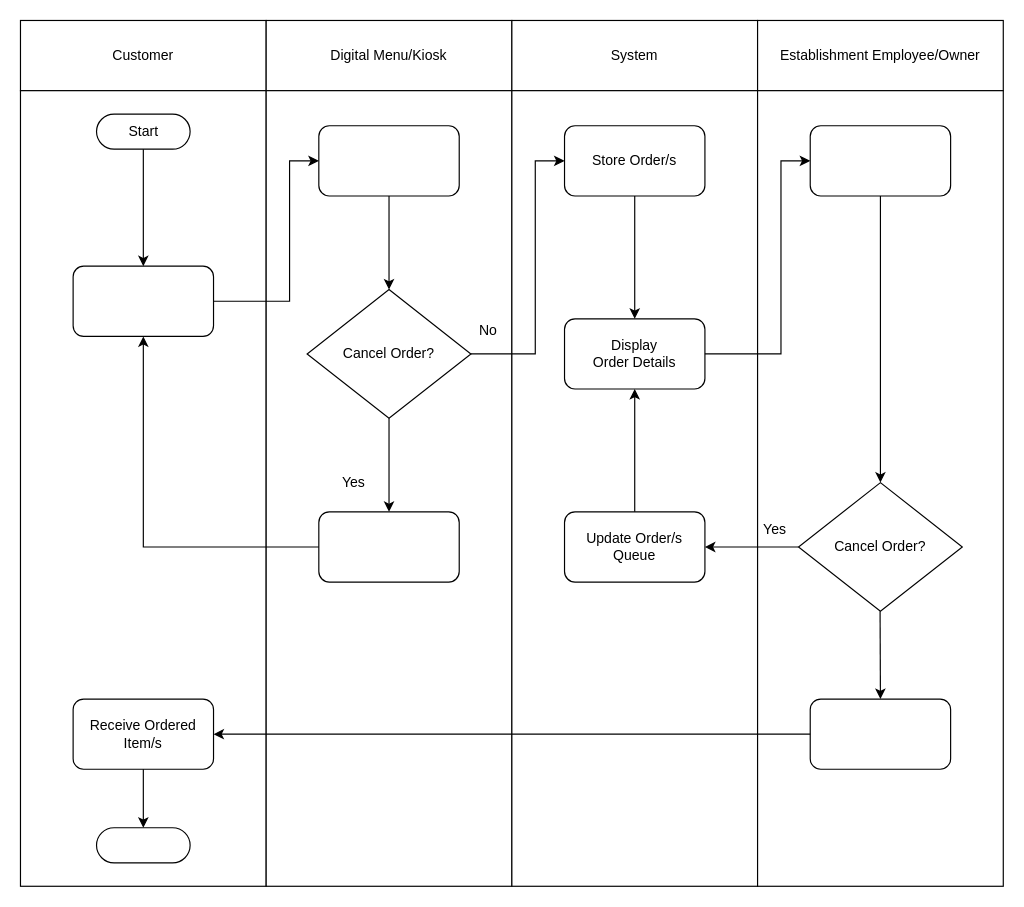
Some shapes in this 1024 by 907 pixel diagram are drawn without their labels. The shapes that lost their labels are listed below. From the top down, each one's centre as x and y in pixels, then its label:
At [388,160]: "Take Order".
At [880,160]: "Access Order/s".
At [143,300]: "Input Order".
At [388,546]: "Display Menu".
At [880,733]: "Process Order/s".
At [142,845]: "End".
